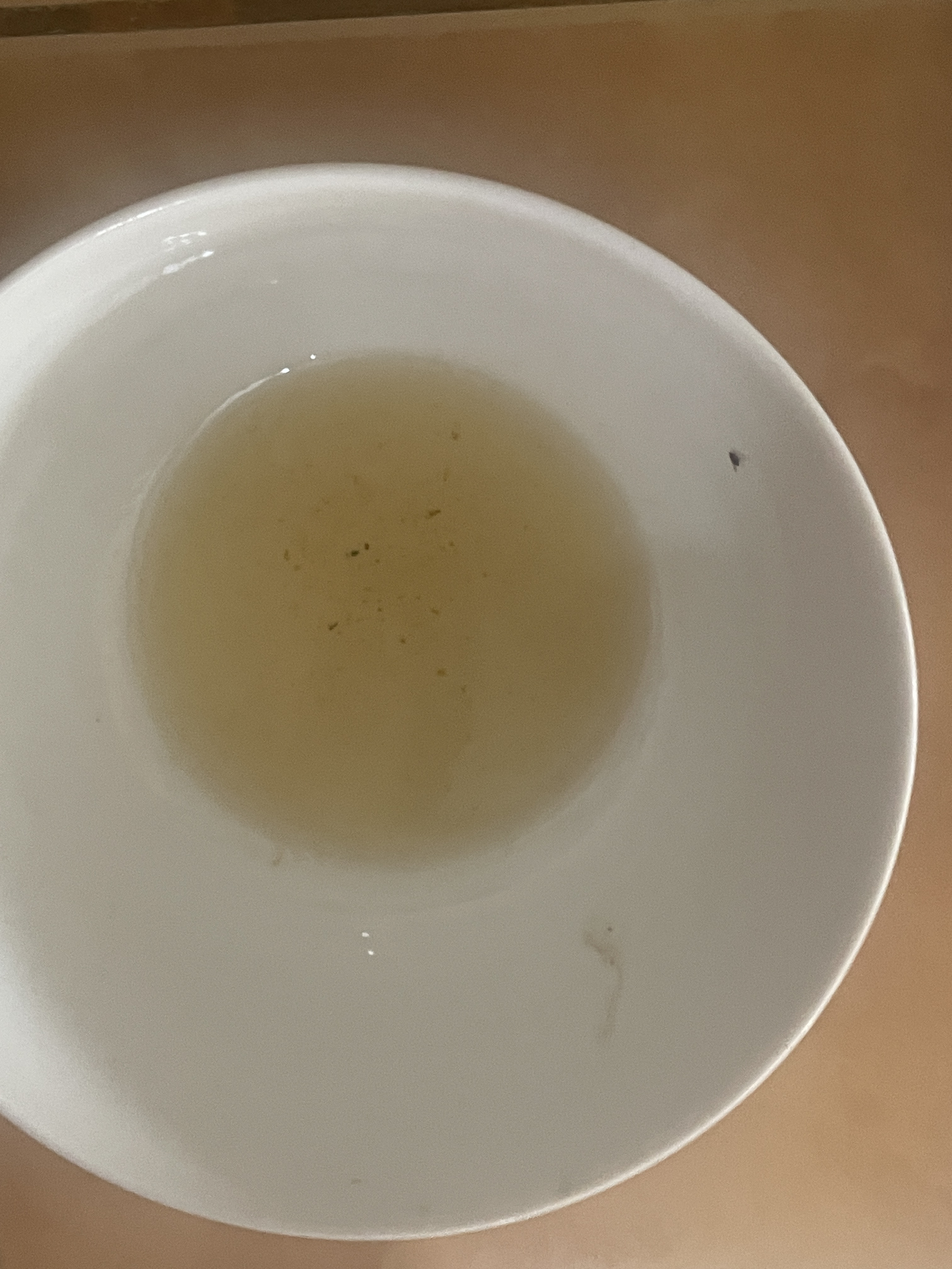reusable: (132, 352, 649, 866)
